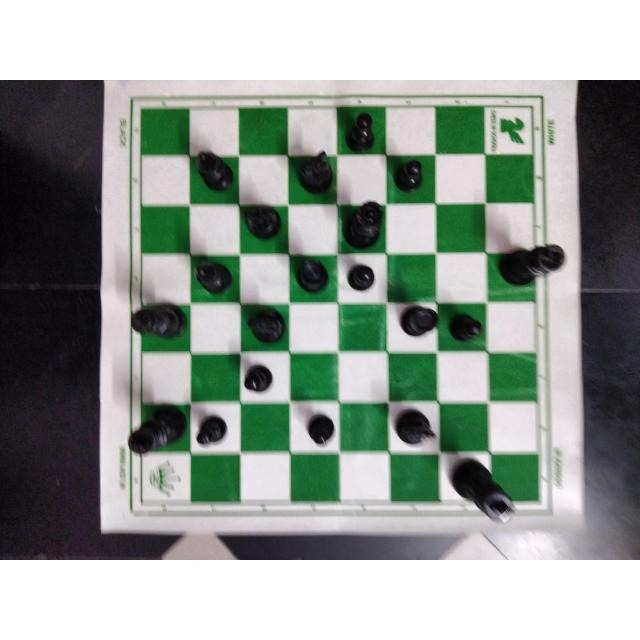black-bishop: (190, 145, 239, 198), (193, 257, 234, 292)
black-king: (448, 459, 520, 527), (498, 242, 566, 292), (123, 403, 188, 454), (126, 303, 190, 343)
black-knight: (392, 408, 441, 454), (296, 150, 336, 198), (244, 307, 286, 347), (243, 205, 285, 243)
black-pawn: (345, 110, 381, 158), (194, 415, 232, 450), (303, 409, 336, 449), (451, 310, 487, 345), (392, 158, 424, 194), (347, 259, 380, 293), (243, 363, 276, 395)
black-queen: (343, 201, 386, 253)
black-rook: (399, 301, 442, 339), (294, 255, 329, 295)
